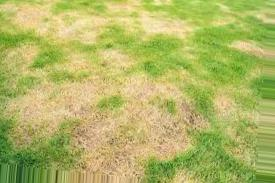patch: (30, 11, 183, 169)
